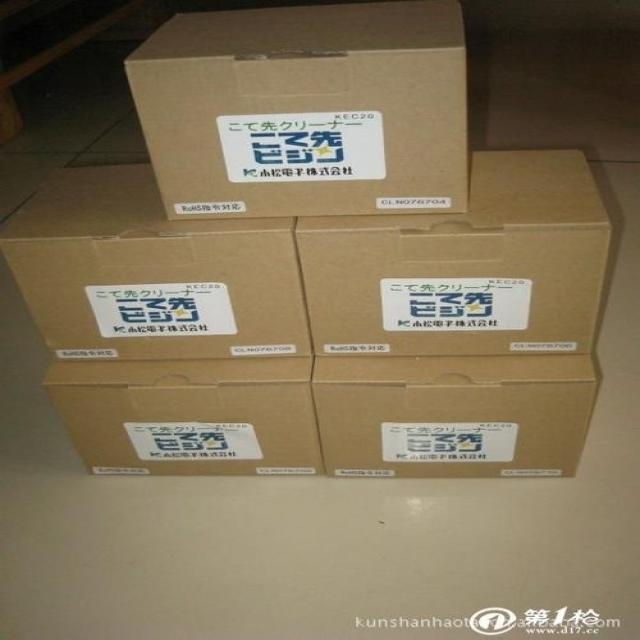box: (122, 0, 470, 221), (294, 150, 612, 357), (1, 164, 313, 360), (311, 352, 598, 477), (41, 357, 325, 476)
